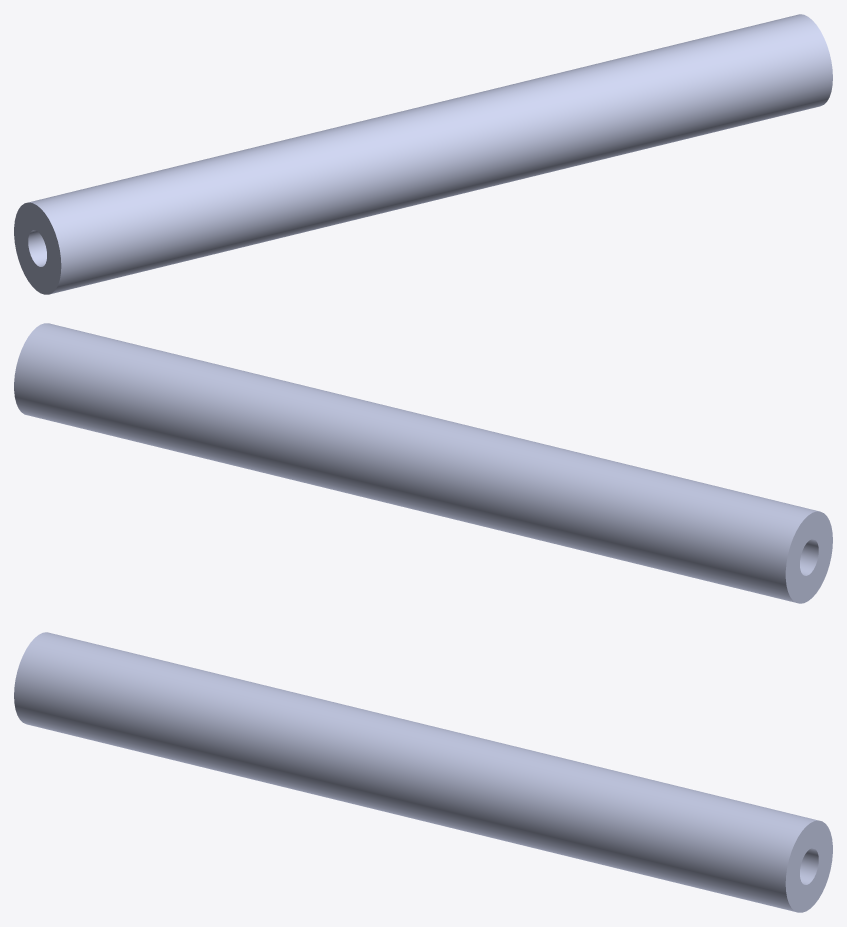
Rendered from inter_shaft.glb.
3 views of the same model, one above another, from view 1: azimuth 30°, elevation 25°; view 2: azimuth 150°, elevation 25°; view 3: azimuth 330°, elevation 25° (orthographic).
Visible parts, largest first — view 1: inter_shaft; view 2: inter_shaft; view 3: inter_shaft.
Part boxes in pixels (x1=…): inter_shaft: x1=14, y1=14, x2=832, y2=294; inter_shaft: x1=14, y1=323, x2=832, y2=603; inter_shaft: x1=14, y1=632, x2=832, y2=912.
Size of the model in its own units: 0.2825 by 0.03 by 0.03.
